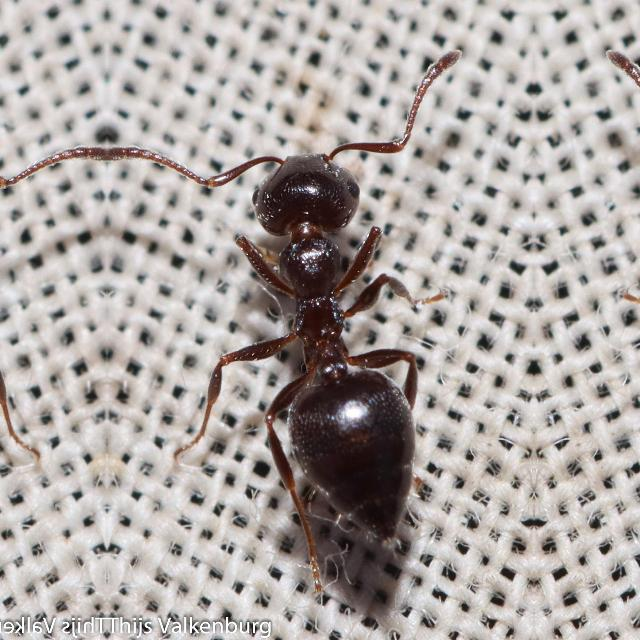Crematogaster: (185, 112, 442, 566)
